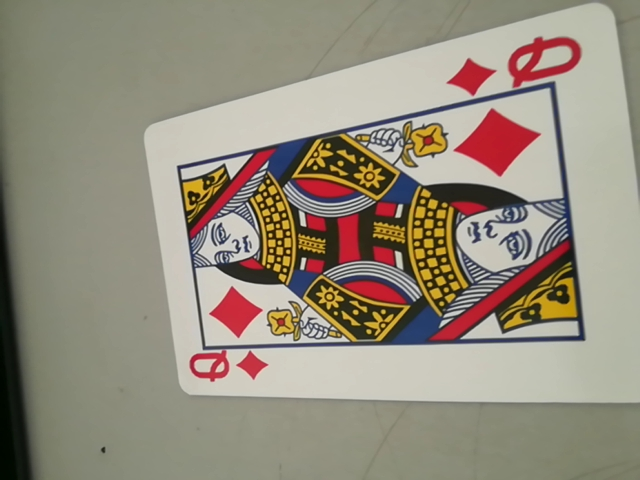fk q: (447, 28, 596, 103), (183, 343, 265, 394)
